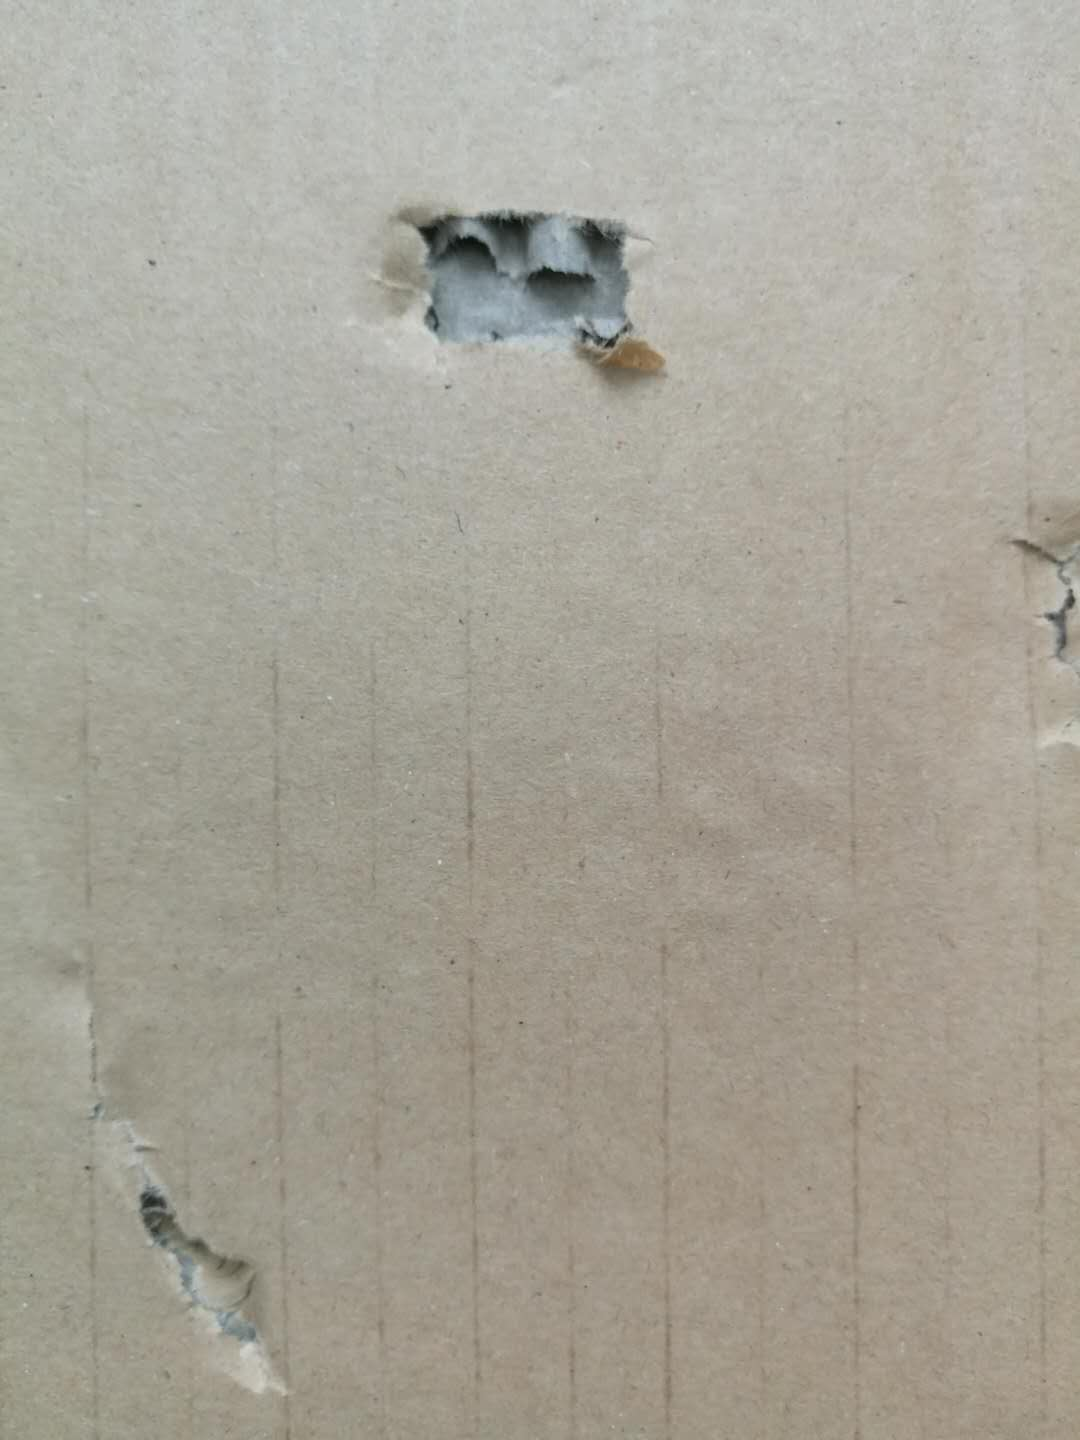defect: (20, 935, 340, 1421), (332, 167, 734, 427), (989, 465, 1080, 802)
